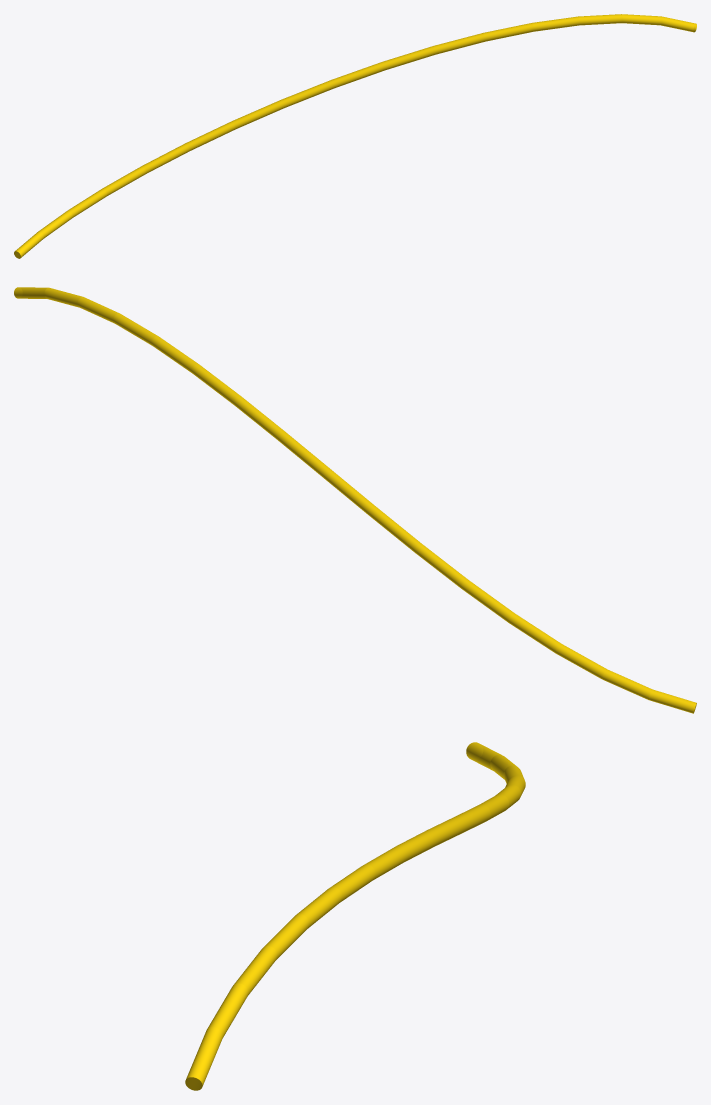
The model's file is Event_421115418_track_148.fbx.
The picture shows the model from 3 angles, top to bottom: view 1: azimuth 30°, elevation 25°; view 2: azimuth 150°, elevation 25°; view 3: azimuth 270°, elevation 25°; orthographic projection. The views are drawn at different scales.
Parts seen in each view (by area): view 1: Model; view 2: Model; view 3: Model.
Part boxes in pixels (x1=…): Model: x1=14, y1=14, x2=696, y2=258; Model: x1=14, y1=287, x2=696, y2=713; Model: x1=185, y1=742, x2=525, y2=1090.
Bounding box in the file's own units: 3.1 × 0.7534 × 0.7483.
